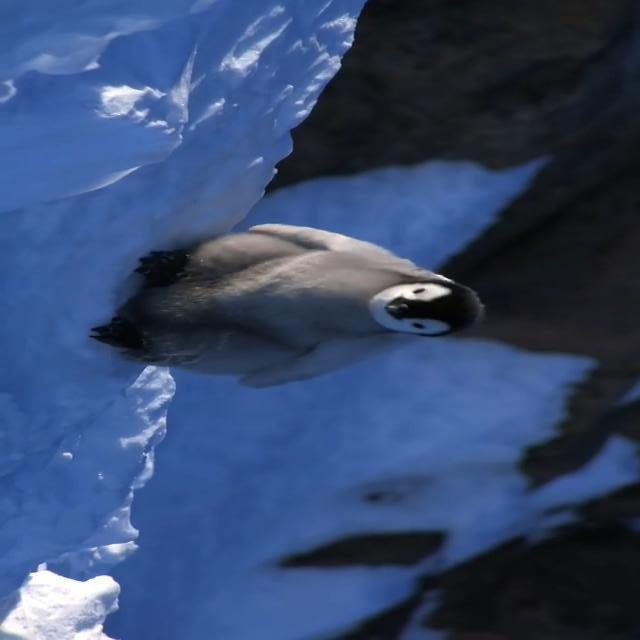penguin: (87, 221, 485, 391)
